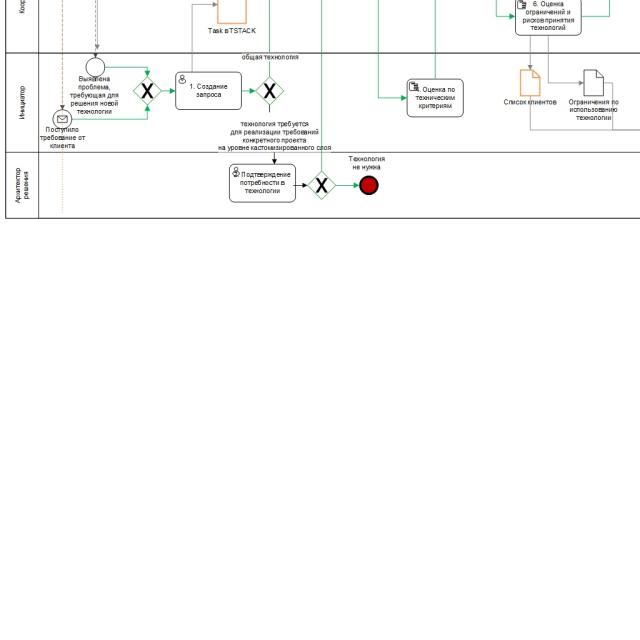arrow: (547, 36, 583, 86), (73, 105, 150, 120), (106, 64, 150, 76), (527, 36, 533, 70), (337, 182, 360, 188), (162, 87, 176, 94), (242, 88, 256, 95), (295, 181, 307, 189), (271, 152, 278, 163)
circle: (86, 58, 106, 78), (360, 176, 379, 195), (53, 110, 72, 128)
diamond: (308, 172, 336, 199), (134, 77, 161, 104), (257, 77, 283, 104)
rectangle: (229, 163, 296, 203), (175, 71, 242, 110), (406, 79, 464, 117)
text_region: (216, 120, 332, 152), (70, 75, 119, 116), (568, 99, 619, 121), (40, 126, 86, 150), (349, 156, 387, 170), (502, 98, 557, 105), (242, 54, 298, 60), (208, 27, 256, 34)
